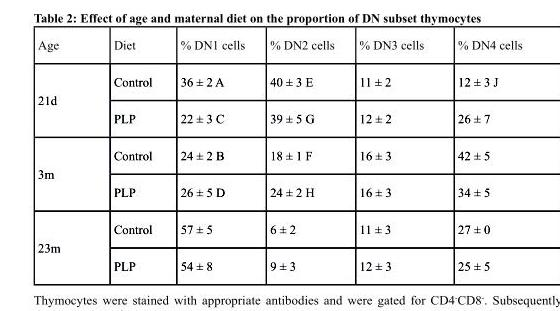table: (37, 37, 521, 272)
table column: (346, 37, 440, 272), (165, 37, 256, 272), (256, 37, 346, 272), (440, 37, 521, 272), (86, 37, 165, 272), (37, 37, 86, 272)
table column header: (37, 37, 521, 62)
table row: (37, 62, 521, 99), (37, 99, 521, 136), (37, 136, 521, 173), (37, 173, 521, 210), (37, 210, 521, 247), (37, 37, 521, 62), (37, 247, 521, 272)
table spanning cell: (37, 62, 86, 136), (37, 136, 86, 210), (37, 210, 86, 272)
